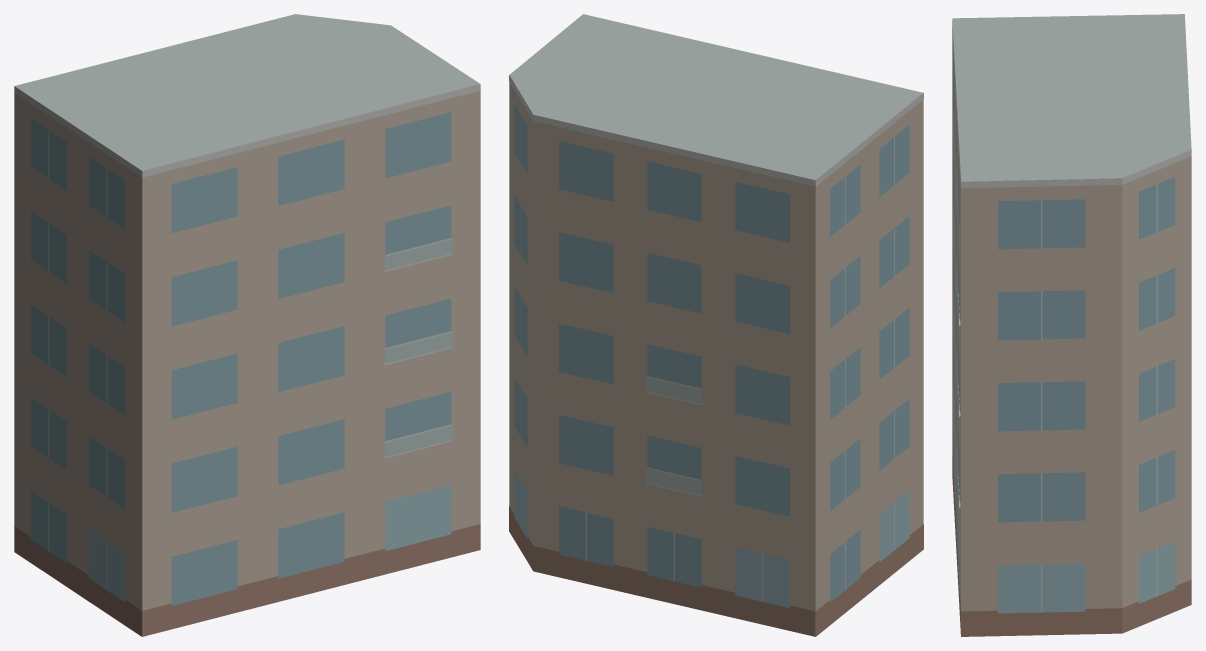
File: survey-upis-32891702.glb
3 renders of one model, left to right at view 1: azimuth 30°, elevation 25°; view 2: azimuth 150°, elevation 25°; view 3: azimuth 270°, elevation 25°, orthographic. The views are drawn at different scales.
Visible parts, largest first — view 1: survey-upis-32891702.tmp; view 2: survey-upis-32891702.tmp; view 3: survey-upis-32891702.tmp.
Part boxes in pixels (x1=…): survey-upis-32891702.tmp: x1=14, y1=14, x2=480, y2=636; survey-upis-32891702.tmp: x1=509, y1=14, x2=923, y2=636; survey-upis-32891702.tmp: x1=952, y1=14, x2=1191, y2=636.
Size of the model in its own units: 13.55 by 17.14 by 8.18.
